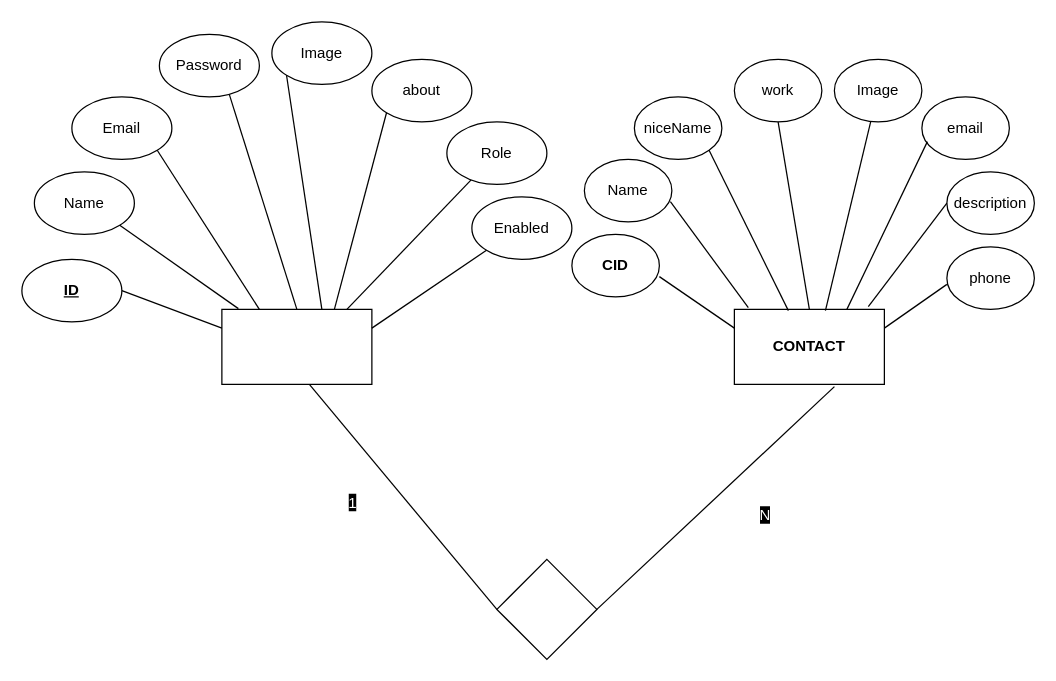
The diagram is 1056 pixels wide and 681 high, and some of its shapes have lost their labels. The box of each missing label's shape, as (x1, y1, x2, y2) in pixels:
has: (496, 558, 597, 659)
USER: (221, 308, 372, 384)
